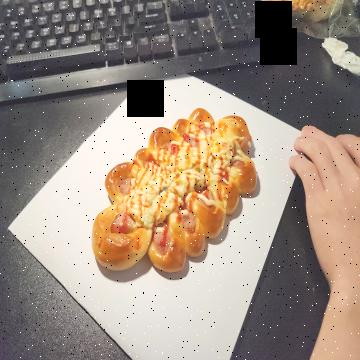pizza_bread: (93, 107, 257, 272)
